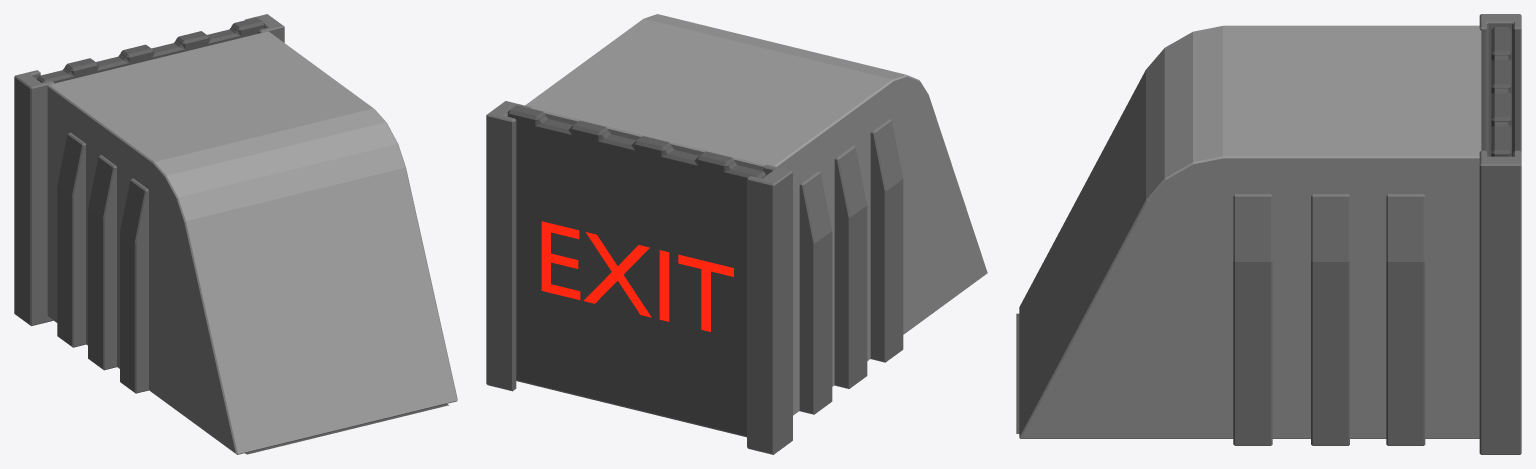
Rendered from exit.glb.
3 renders of one model, left to right at view 1: azimuth 30°, elevation 25°; view 2: azimuth 150°, elevation 25°; view 3: azimuth 270°, elevation 25°, orthographic. The views are drawn at different scales.
Parts seen in each view (by area): view 1: garage_walls, Greebles, door, Plane; view 2: door, garage_walls, Greebles, Text; view 3: garage_walls, Greebles, door.
Part boxes in pixels (left/top/right/bottom): garage_walls: left=47, top=31, right=457, bottom=454; Greebles: left=14, top=14, right=284, bottom=393; door: left=37, top=17, right=264, bottom=83; Plane: left=245, top=404, right=448, bottom=454; door: left=507, top=105, right=766, bottom=437; garage_walls: left=525, top=14, right=987, bottom=415; Greebles: left=486, top=101, right=903, bottom=454; Text: left=541, top=221, right=733, bottom=331; garage_walls: left=1019, top=25, right=1481, bottom=438; Greebles: left=1233, top=14, right=1521, bottom=454; door: left=1491, top=27, right=1511, bottom=156.
Size of the model in its own units: 10.95 by 9.99 by 15.47.
